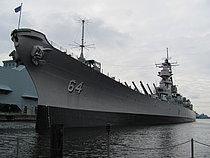MIL_Ship: (13, 22, 200, 125)
